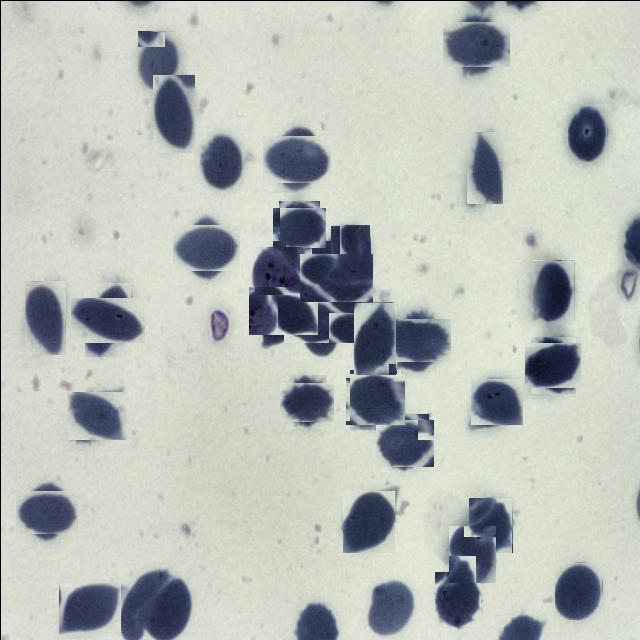red blood cell: (305, 246, 366, 307), (134, 576, 191, 640), (77, 289, 137, 349), (291, 291, 350, 350), (254, 281, 312, 340), (267, 129, 325, 187), (178, 218, 235, 276), (58, 582, 120, 635), (152, 74, 194, 152), (342, 490, 394, 552), (447, 15, 503, 72), (353, 301, 396, 374), (347, 371, 402, 427), (24, 280, 65, 354), (365, 577, 414, 637), (391, 313, 445, 367), (70, 388, 124, 442), (19, 484, 72, 538), (554, 561, 602, 619), (448, 524, 496, 582), (378, 416, 430, 468), (199, 131, 244, 190), (527, 339, 578, 390), (466, 131, 502, 203), (532, 259, 574, 320), (137, 30, 180, 89), (434, 571, 480, 626), (471, 376, 521, 426), (468, 496, 512, 552), (330, 223, 370, 280), (567, 104, 606, 162), (275, 203, 322, 250), (282, 378, 330, 424)
ring: (252, 246, 304, 306)
